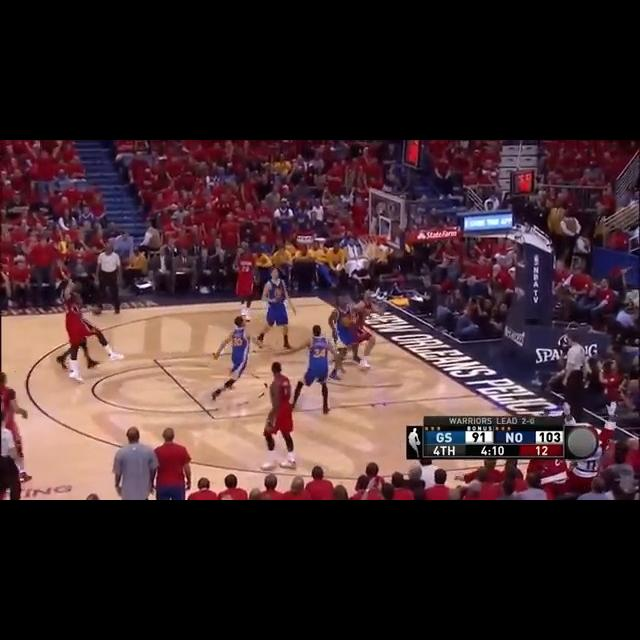hoop: (358, 233, 383, 262)
